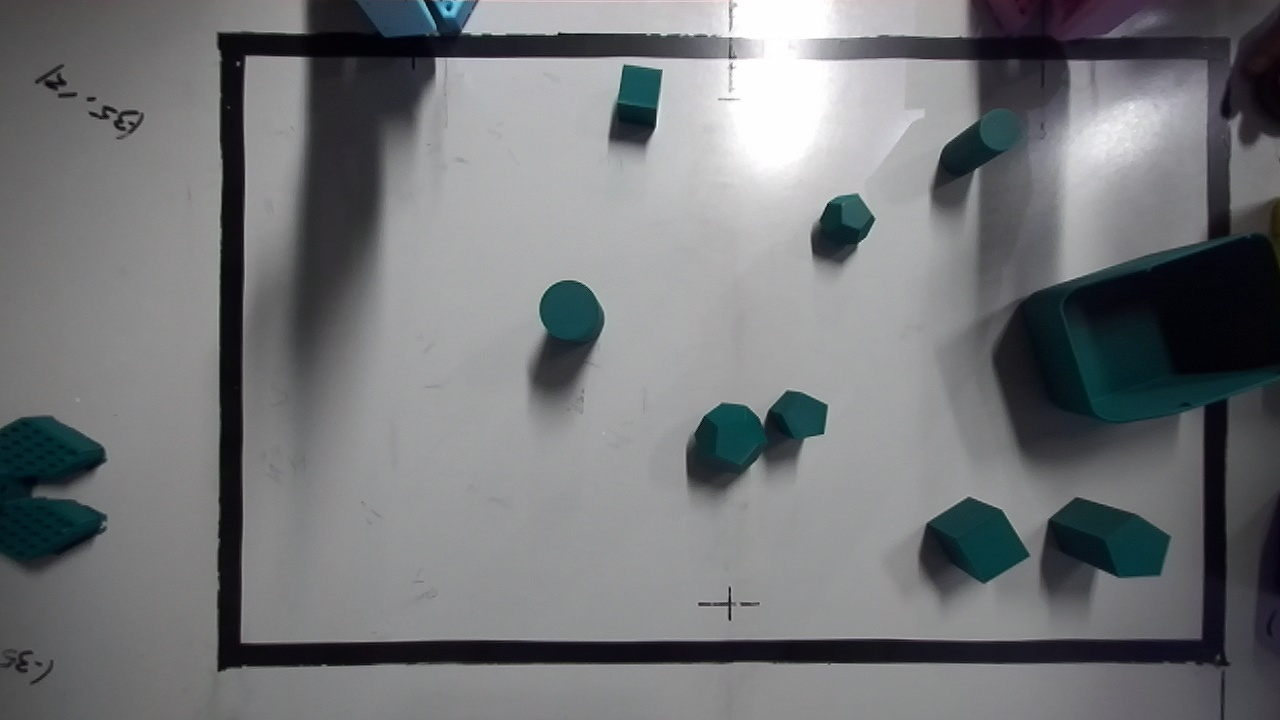bin: (1023, 233, 1279, 422)
cube: (927, 497, 1028, 582), (616, 64, 662, 127)
cylinder: (940, 109, 1024, 174), (539, 280, 603, 343)
dodecahedron: (694, 403, 766, 470), (820, 194, 874, 243)
hexagonal: (1049, 497, 1170, 576), (767, 390, 828, 438)
